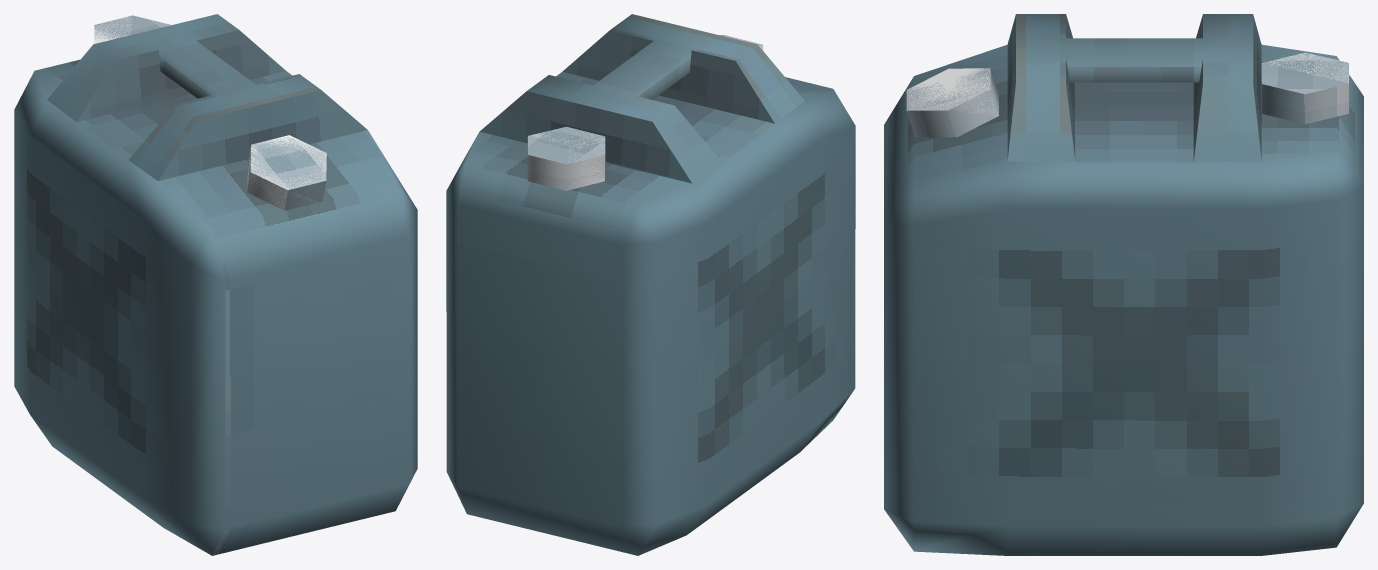
The model's file is objects_un_dlc1_t10polytank01.gltf.
3 views of the same model, side by side, from view 1: azimuth 30°, elevation 25°; view 2: azimuth 150°, elevation 25°; view 3: azimuth 270°, elevation 25° (orthographic). The views are drawn at different scales.
Visible parts, largest first — view 1: um_objects_un_dlc1_t10polytank01_model_lod0Shape:objects_un_, um_objects_un_dlc1_t10polytank01_model_lod0Shape:shadow_mtl; view 2: um_objects_un_dlc1_t10polytank01_model_lod0Shape:objects_un_, um_objects_un_dlc1_t10polytank01_model_lod0Shape:shadow_mtl; view 3: um_objects_un_dlc1_t10polytank01_model_lod0Shape:objects_un_, um_objects_un_dlc1_t10polytank01_model_lod0Shape:shadow_mtl.
Part boxes in pixels (x1,y1,x2,y2): um_objects_un_dlc1_t10polytank01_model_lod0Shape:objects_un_: (14,14,417,555); um_objects_un_dlc1_t10polytank01_model_lod0Shape:shadow_mtl: (94,17,325,209); um_objects_un_dlc1_t10polytank01_model_lod0Shape:objects_un_: (446,14,855,555); um_objects_un_dlc1_t10polytank01_model_lod0Shape:shadow_mtl: (532,35,763,189); um_objects_un_dlc1_t10polytank01_model_lod0Shape:objects_un_: (884,14,1363,555); um_objects_un_dlc1_t10polytank01_model_lod0Shape:shadow_mtl: (907,52,1348,115).
Size of what is drawn, in the model's own units: 0.2485 by 0.386 by 0.3715.
Materials: 2 (1 with a texture image).
